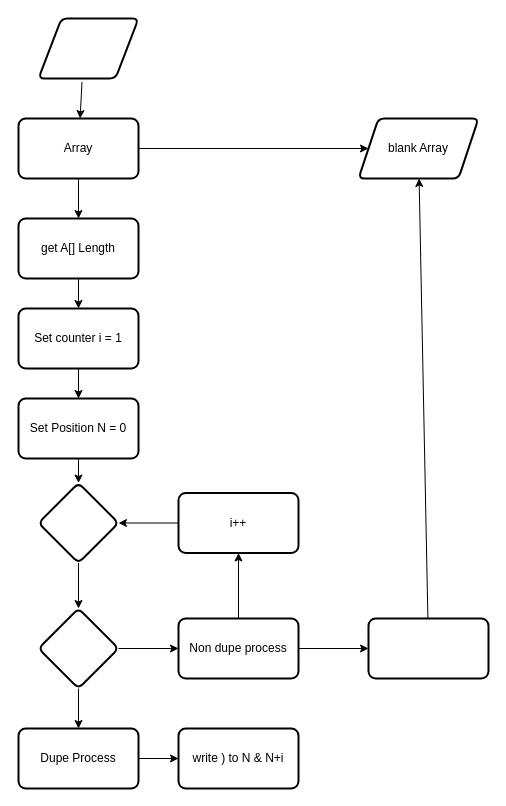
This 506x806 diagram has some shape labels left out. The box of each missing label's shape, as (x1, y1, x2, y2) in pixels:
is A[n] === A[n + i]?: (37, 607, 119, 689)
is A[n]+i < length?: (37, 482, 119, 564)
String: (37, 17, 139, 79)
write ( to n+i: (367, 617, 489, 679)
